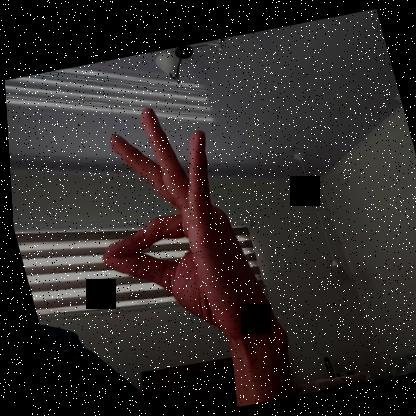F: (65, 90, 279, 362)
